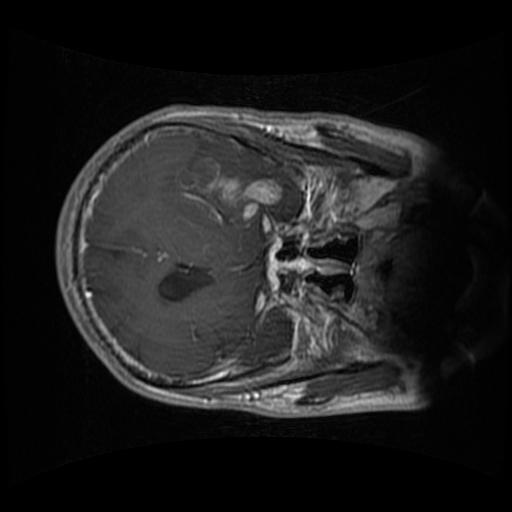glioma: (176, 153, 284, 228)
